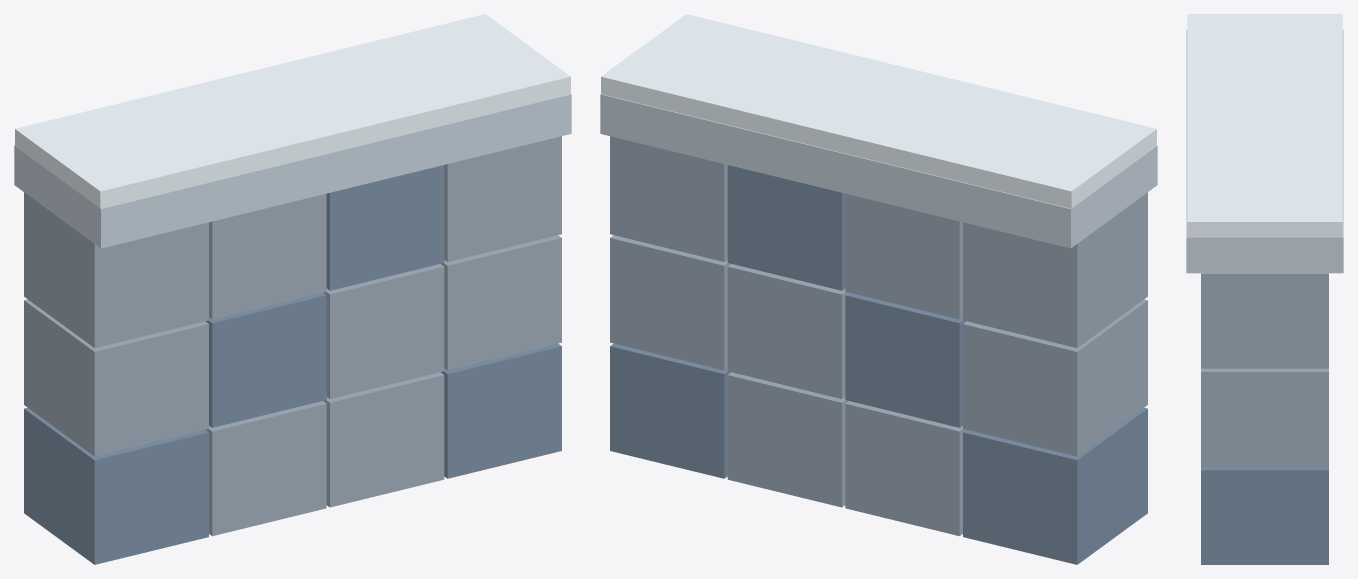
File: wall-straight-snowy.glb
The picture shows the model from 3 angles, left to right: view 1: azimuth 30°, elevation 25°; view 2: azimuth 150°, elevation 25°; view 3: azimuth 270°, elevation 25°; orthographic projection. The views are drawn at different scales.
Parts seen in each view (by area): view 1: wall-straight-kit-snowy-stone, wall-straight-kit-snowy-shade, wall-straight-kit-snowy-top, wall-straight-kit-snowy-light; view 2: wall-straight-kit-snowy-stone, wall-straight-kit-snowy-shade, wall-straight-kit-snowy-top, wall-straight-kit-snowy-light; view 3: wall-straight-kit-snowy-top, wall-straight-kit-snowy-stone, wall-straight-kit-snowy-shade, wall-straight-kit-snowy-light.
Part boxes in pixels (box(x1,y1,x2,y2)): wall-straight-kit-snowy-stone: box(24, 136, 561, 536); wall-straight-kit-snowy-shade: box(24, 165, 561, 564); wall-straight-kit-snowy-top: box(15, 14, 570, 208); wall-straight-kit-snowy-light: box(14, 94, 571, 248); wall-straight-kit-snowy-stone: box(610, 136, 1147, 536); wall-straight-kit-snowy-shade: box(610, 165, 1147, 564); wall-straight-kit-snowy-top: box(601, 14, 1156, 208); wall-straight-kit-snowy-light: box(600, 94, 1157, 248); wall-straight-kit-snowy-top: box(1187, 14, 1342, 237); wall-straight-kit-snowy-stone: box(1201, 273, 1328, 466); wall-straight-kit-snowy-shade: box(1201, 467, 1328, 564); wall-straight-kit-snowy-light: box(1186, 29, 1343, 273).
Size of the model in its own units: 2 by 1.54 by 0.64.
